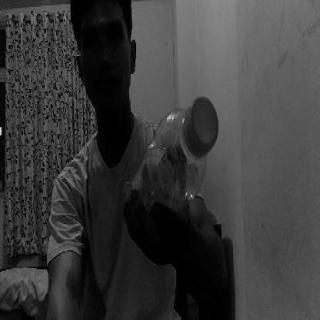plastic_bottles: (132, 87, 220, 209)
